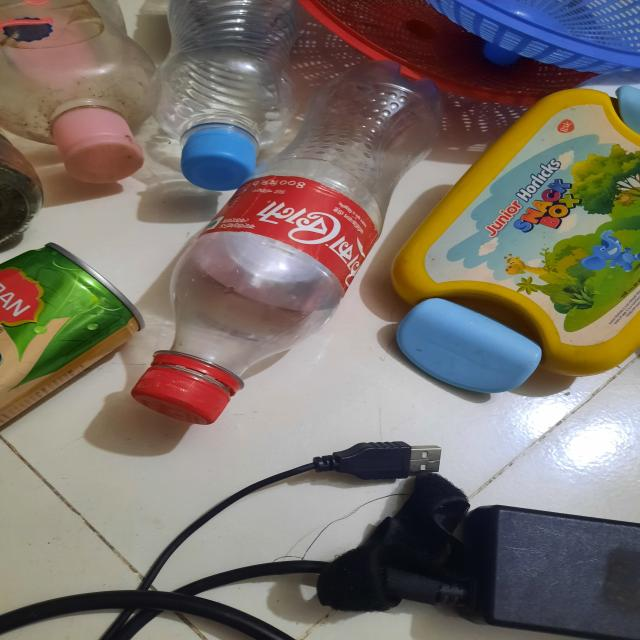Cable: (0, 490, 408, 640)
Plastics: (153, 0, 640, 442), (0, 0, 306, 198)
can: (0, 237, 137, 461)
